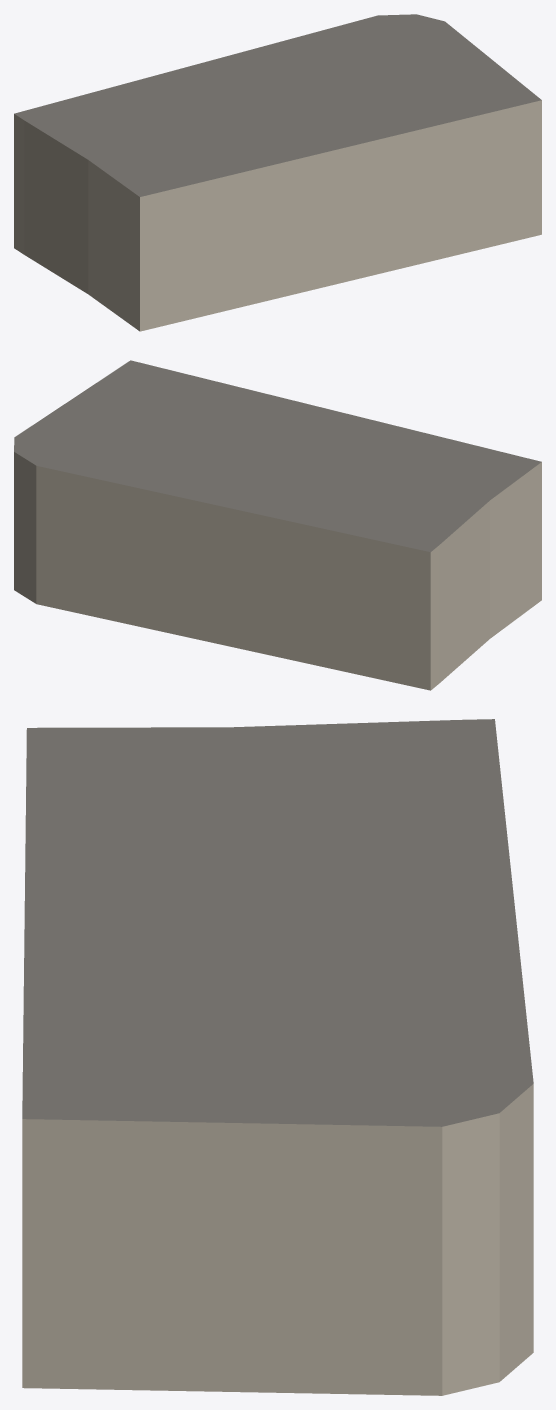
The picture shows the model from 3 angles, top to bottom: view 1: azimuth 30°, elevation 25°; view 2: azimuth 150°, elevation 25°; view 3: azimuth 270°, elevation 25°; orthographic projection. The views are drawn at different scales.
Parts seen in each view (by area): view 1: HP-w1515071099; view 2: HP-w1515071099; view 3: HP-w1515071099.
Boxes of the visible parts, <box> form: HP-w1515071099: <box>14,14,541,331</box>; HP-w1515071099: <box>14,360,541,690</box>; HP-w1515071099: <box>22,719,533,1395</box>.
Bounding box in the file's own units: 58.5 × 18 × 31.01.
